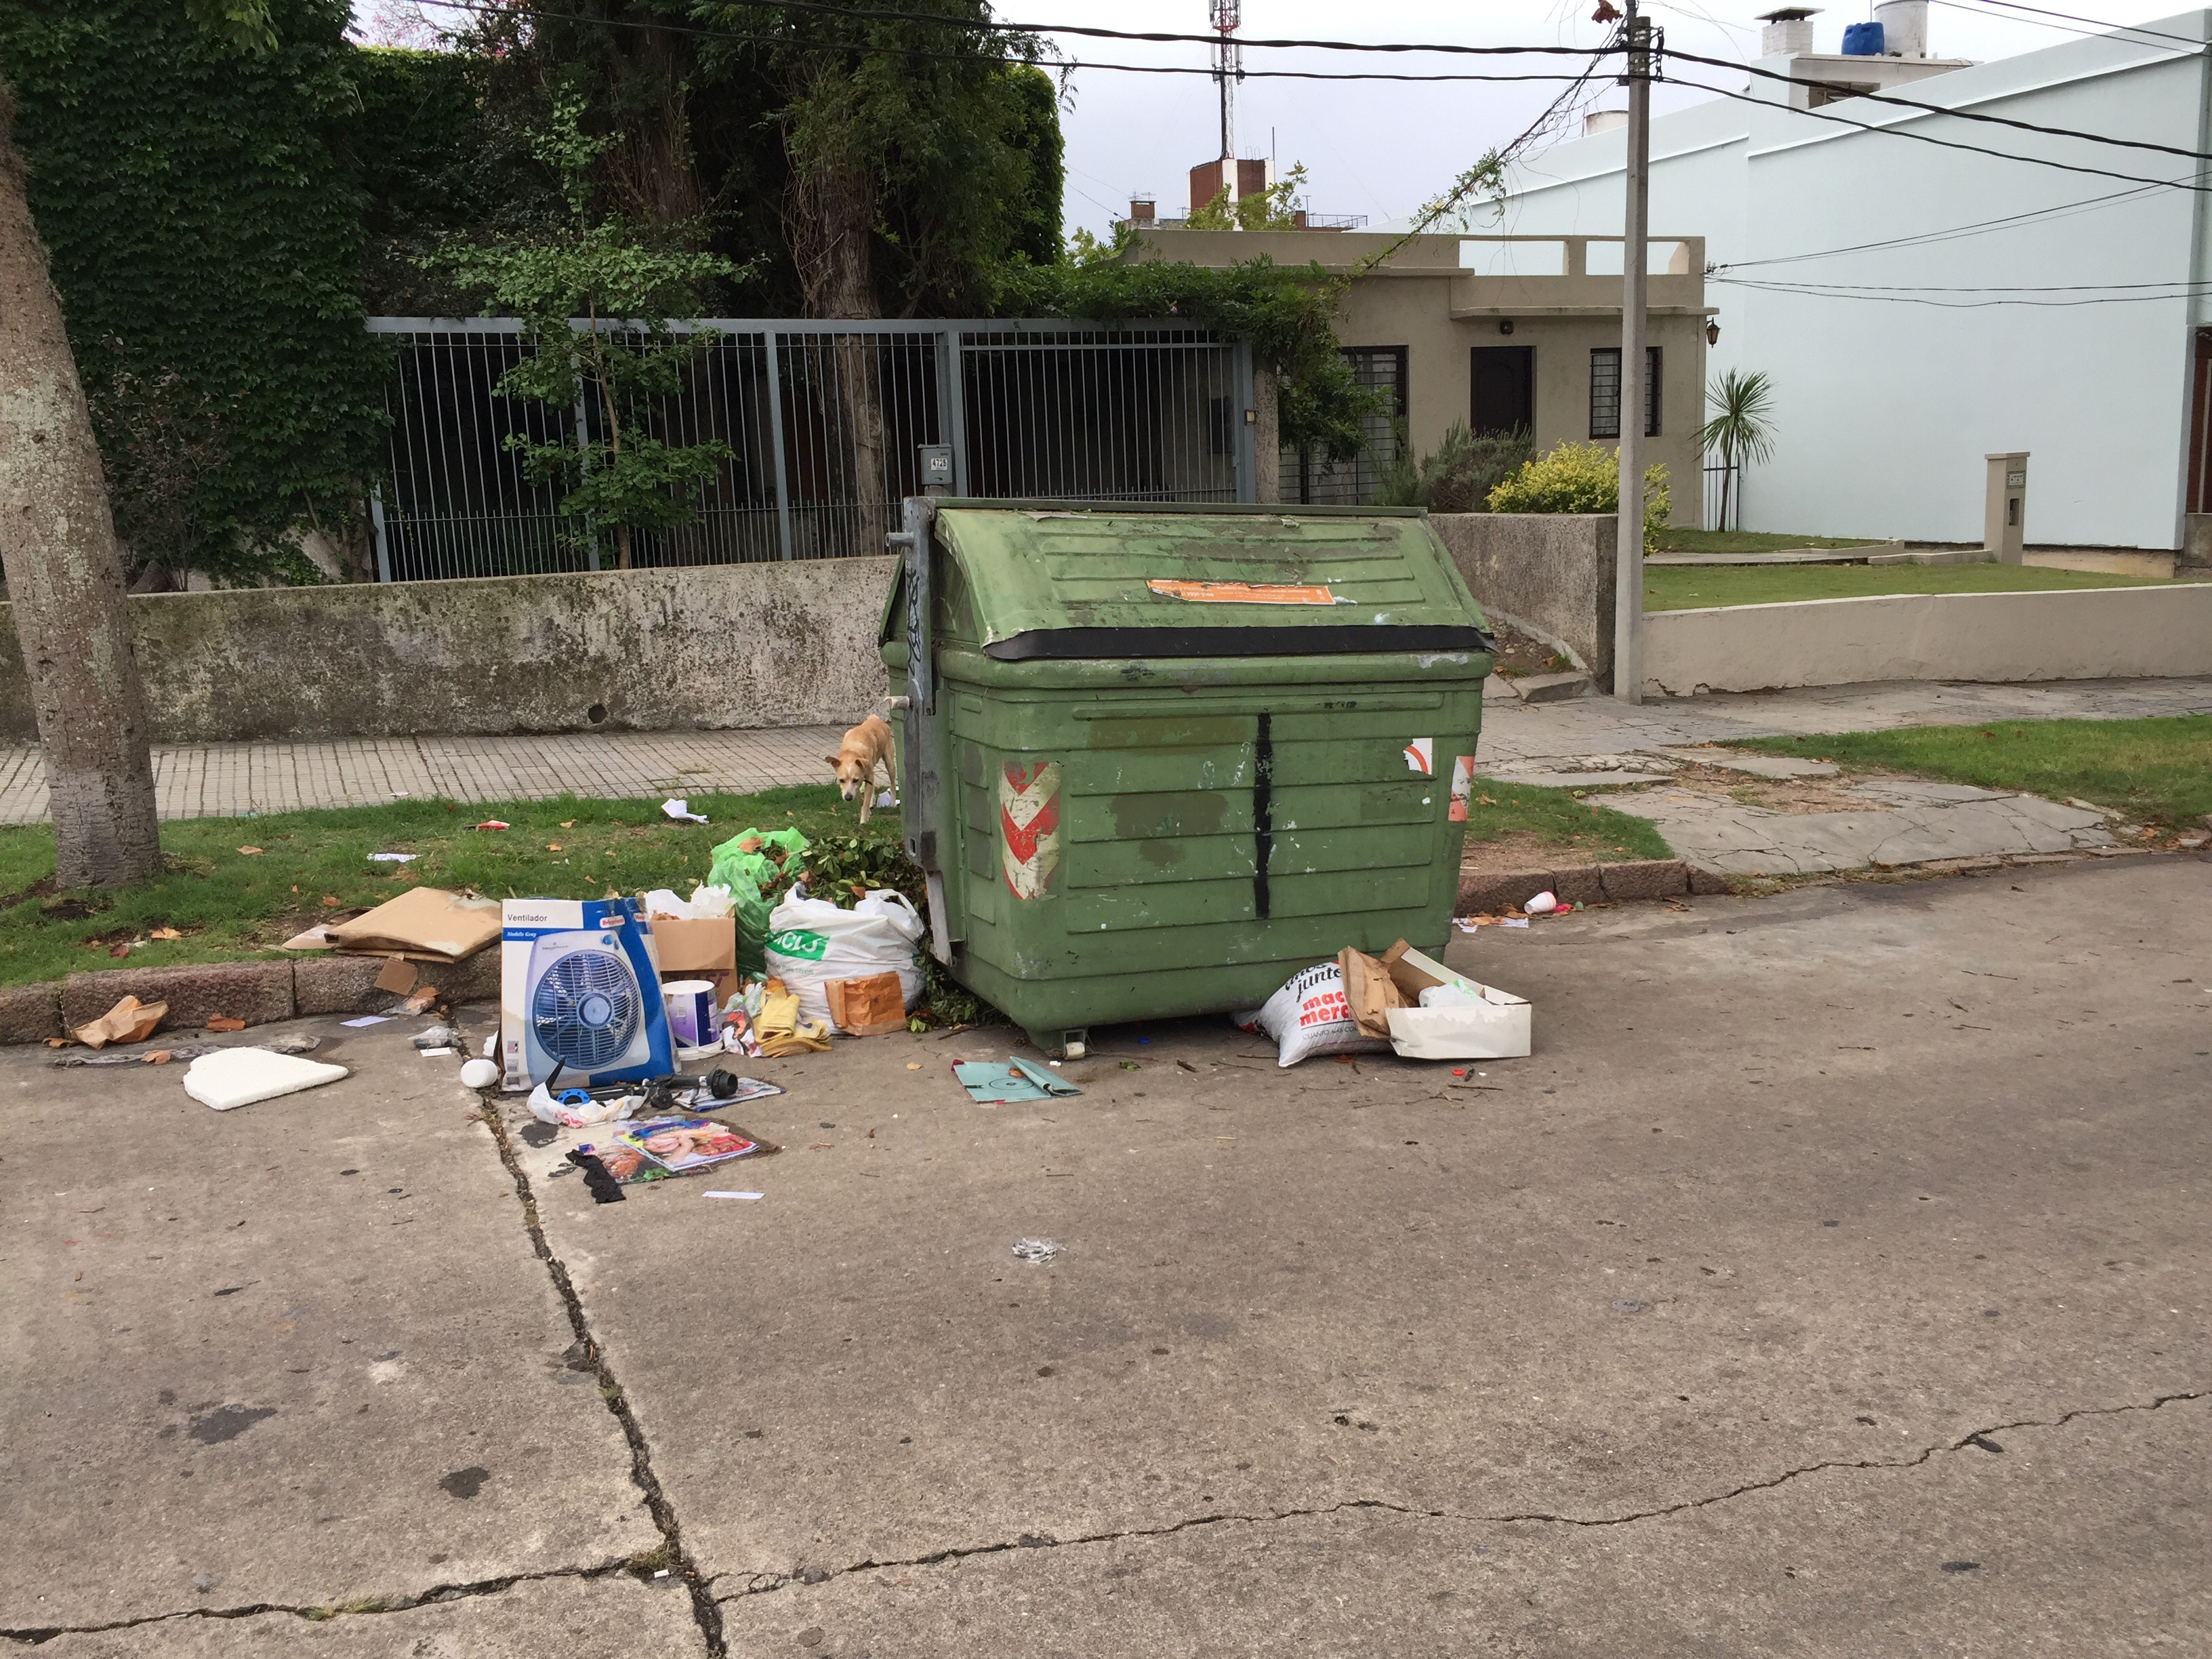container: (857, 472, 1510, 1033)
